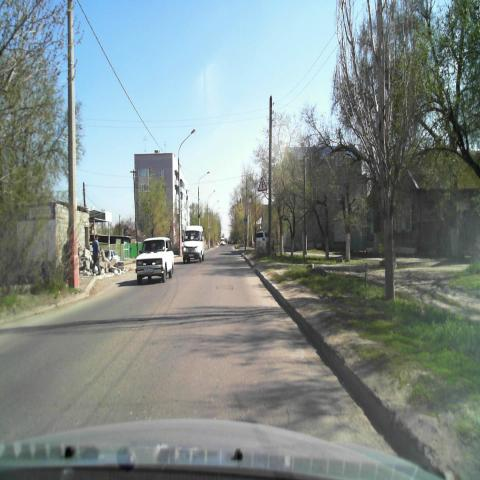2_3_2: (258, 176, 267, 192)
